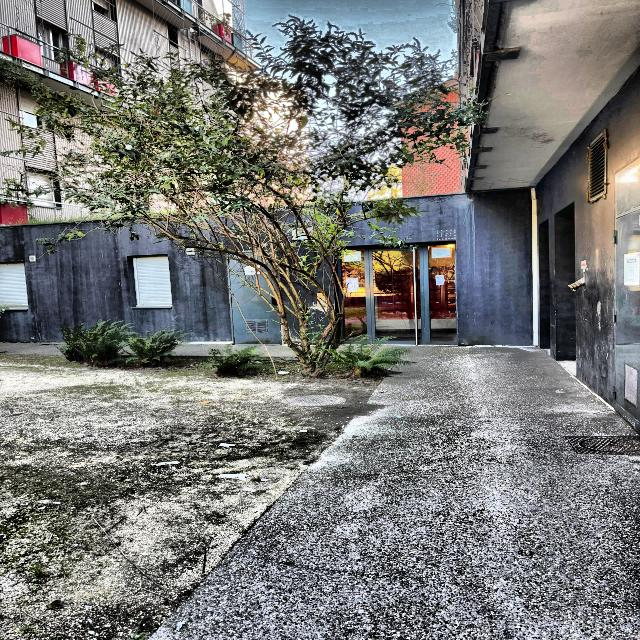arvore: (261, 174, 351, 368)
